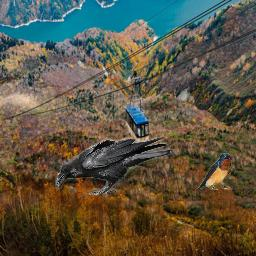Crow: (55, 137, 173, 195)
Swallow: (197, 153, 234, 190)
